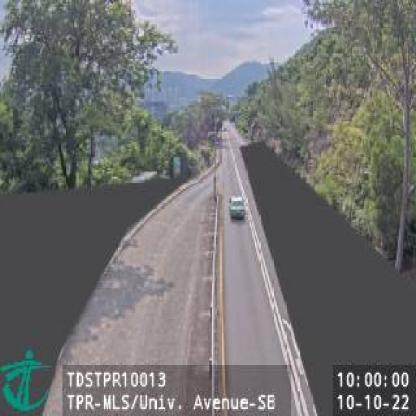Car: (230, 194, 245, 220)
